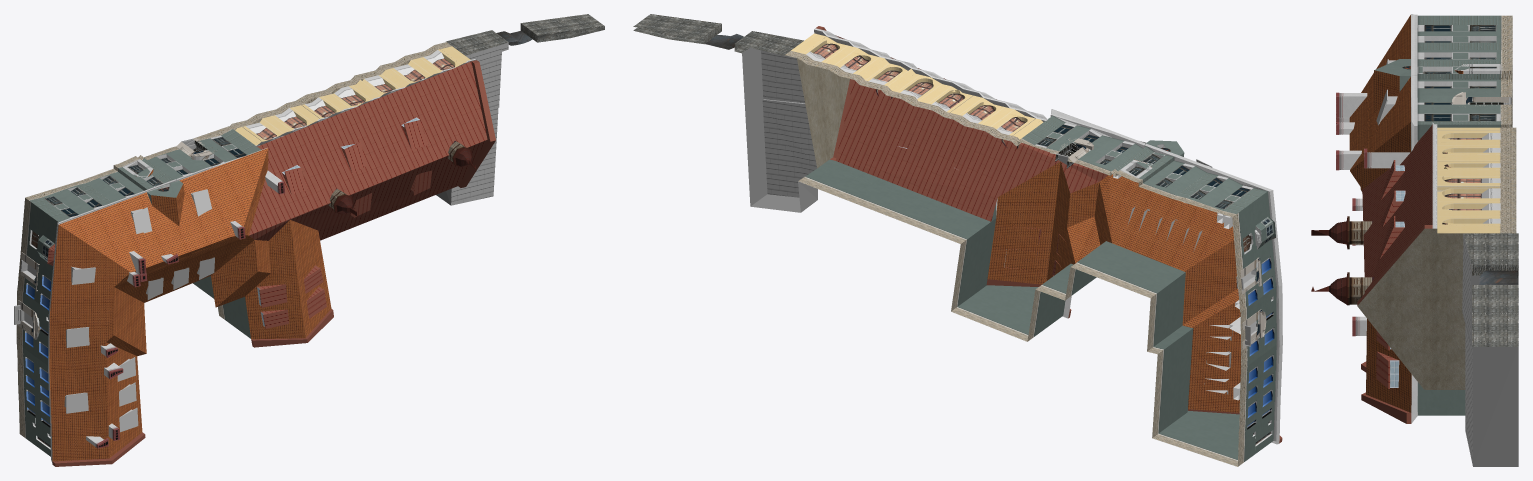
File: SK7-origo.obj
The picture shows the model from 3 angles, left to right: view 1: azimuth 30°, elevation 25°; view 2: azimuth 150°, elevation 25°; view 3: azimuth 270°, elevation 25°; orthographic projection. The views are drawn at different scales.
Visible parts, largest first — view 1: building; view 2: building; view 3: building.
Boxes of the visible parts, x1=… form: building: x1=14, y1=14, x2=604, y2=466; building: x1=633, y1=14, x2=1282, y2=466; building: x1=1311, y1=14, x2=1518, y2=466.
Bounding box in the file's own units: 82.5 × 40 × 18.21.
